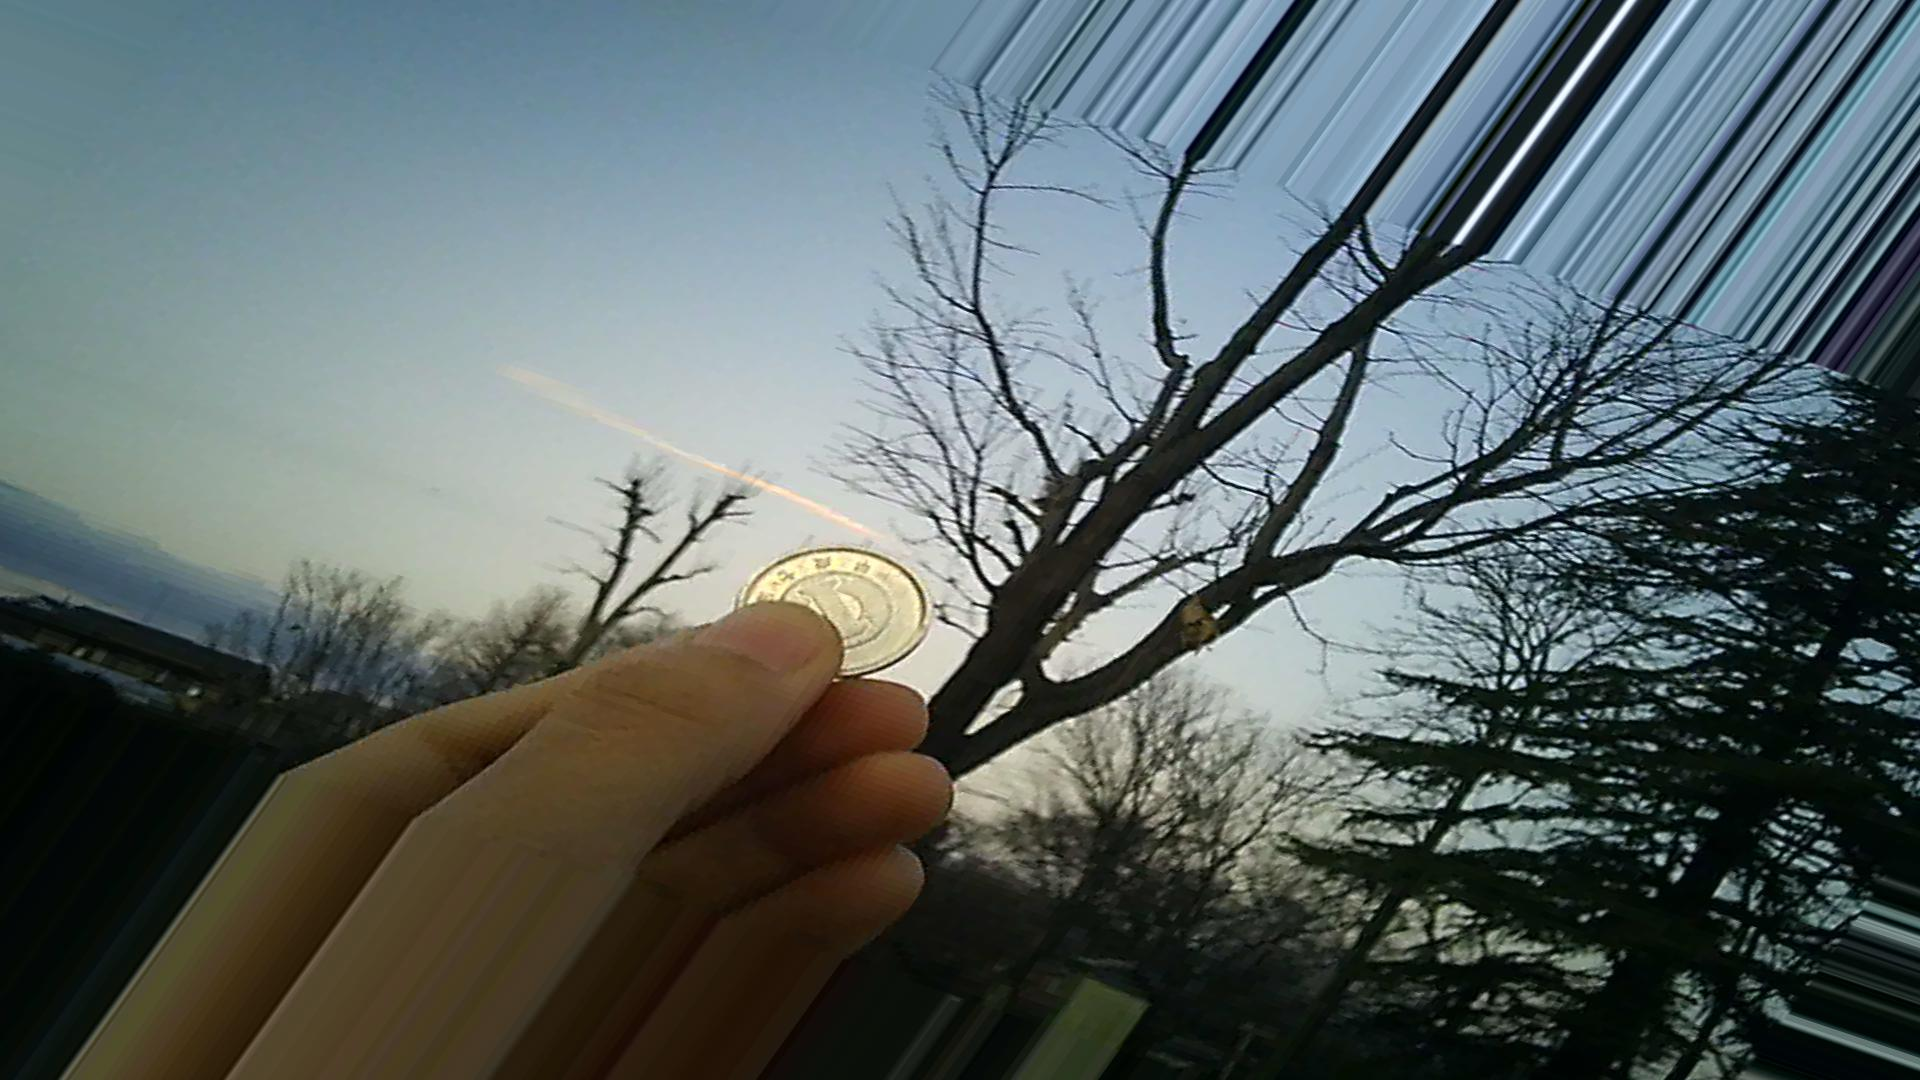1 Yen: (735, 535, 942, 691)
